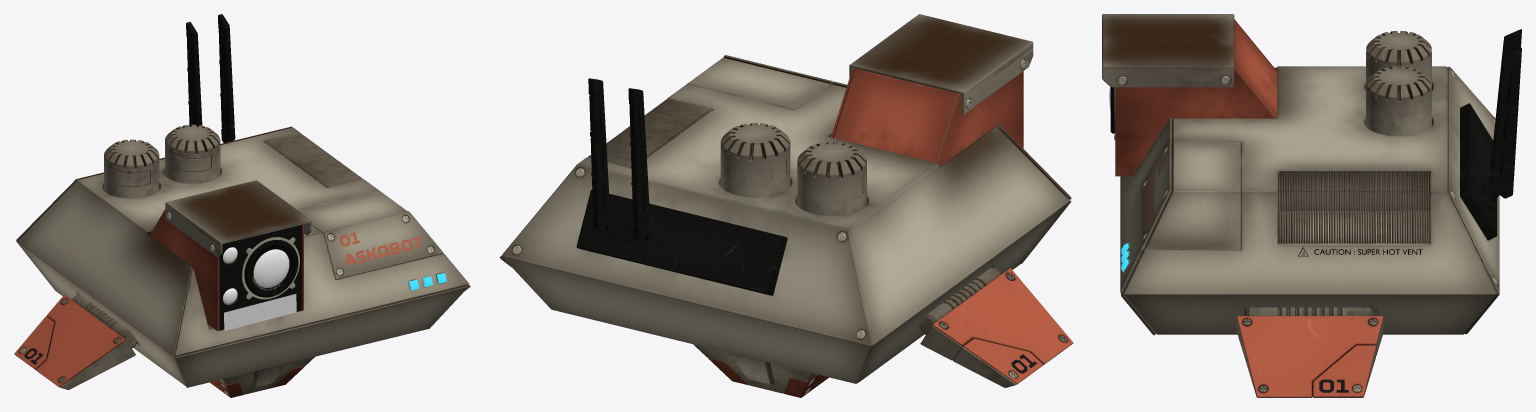
The model's file is askobot_led.glb.
3 views of the same model, side by side, from view 1: azimuth 30°, elevation 25°; view 2: azimuth 150°, elevation 25°; view 3: azimuth 270°, elevation 25° (orthographic). The views are drawn at different scales.
Visible parts, largest first — view 1: Body_Baked, Body.001_Baked, Head.001_Baked, Head_Baked, Wings.007_Baked, Battery.002_Baked, Battery.001_Baked, Body.002_Baked, Wings.008_Baked, Antenna.002_Baked, Lens.001, Lens_Baked (+6 smaller); view 2: Body_Baked, Head_Baked, Antenna_Baked, Head.001_Baked, Wings.007_Baked, Battery.001_Baked, Battery.002_Baked, Body.001_Baked, Body.002_Baked, Antenna.003_Baked, Antenna.002_Baked, Wings.008_Baked (+4 smaller); view 3: Body_Baked, Body.002_Baked, Body.001_Baked, Wings.003_Baked, Head.001_Baked, Head_Baked, Battery.001_Baked, Antenna_Baked, Antenna.002_Baked, Battery.002_Baked, Wings.001_Baked, Antenna.003_Baked (+1 smaller).
Boxes of the visible parts, x1,y1,x2,y2 form: Body_Baked: [16, 126, 468, 387]; Body.001_Baked: [298, 191, 443, 279]; Head.001_Baked: [165, 180, 311, 257]; Head_Baked: [150, 209, 303, 330]; Wings.007_Baked: [14, 294, 126, 387]; Battery.002_Baked: [104, 139, 159, 198]; Battery.001_Baked: [165, 124, 220, 183]; Body.002_Baked: [265, 133, 363, 188]; Wings.008_Baked: [19, 294, 137, 389]; Antenna.002_Baked: [218, 14, 235, 142]; Lens.001: [223, 247, 438, 304]; Lens_Baked: [244, 240, 298, 297]; Body_Baked: [502, 81, 1071, 383]; Head_Baked: [831, 68, 1023, 165]; Antenna_Baked: [576, 190, 787, 295]; Head.001_Baked: [849, 14, 1033, 114]; Wings.007_Baked: [932, 268, 1073, 384]; Battery.001_Baked: [720, 123, 790, 197]; Battery.002_Baked: [797, 141, 866, 215]; Body.001_Baked: [687, 55, 832, 110]; Body.002_Baked: [588, 98, 711, 167]; Antenna.003_Baked: [628, 88, 650, 240]; Antenna.002_Baked: [588, 78, 610, 230]; Wings.008_Baked: [919, 267, 1066, 378]; Body_Baked: [1120, 66, 1499, 335]; Body.002_Baked: [1278, 171, 1428, 243]; Body.001_Baked: [1141, 141, 1241, 250]; Wings.003_Baked: [1237, 316, 1383, 397]; Head.001_Baked: [1102, 14, 1234, 87]; Head_Baked: [1115, 19, 1277, 176]; Battery.001_Baked: [1366, 66, 1431, 136]; Antenna_Baked: [1460, 103, 1497, 240]; Antenna.002_Baked: [1489, 47, 1521, 201]; Battery.002_Baked: [1366, 31, 1431, 87]; Wings.001_Baked: [1236, 307, 1383, 397]; Antenna.003_Baked: [1489, 29, 1521, 182].
Size of the model in its own units: 0.9079 by 0.5991 by 0.6738.
54 materials, 52 textured.
